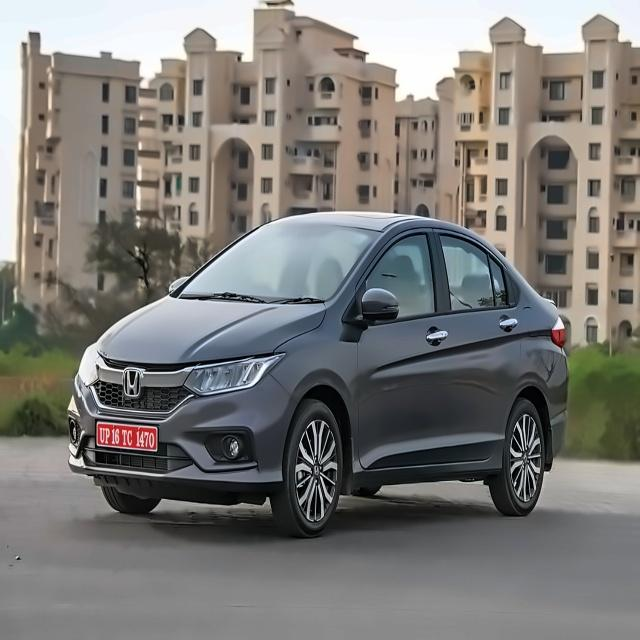Car hood: (94, 294, 324, 365)
Fender - -F-L-: (265, 292, 369, 460)
Fender - -R-L-: (493, 268, 561, 431)
Front bumper: (67, 368, 298, 508)
Headlight - -L-: (180, 349, 285, 401)
Headlight - -R-: (71, 341, 108, 385)
Passenger-s door - -F-L-: (331, 206, 454, 489)
Passenger-s door - -R-L-: (429, 219, 528, 489)
Rear bumper: (530, 347, 577, 468)
Rear light - -L-: (547, 314, 570, 353)
Side bumper - -L-: (329, 427, 520, 503)
Side mirror - -L-: (351, 290, 403, 332)
